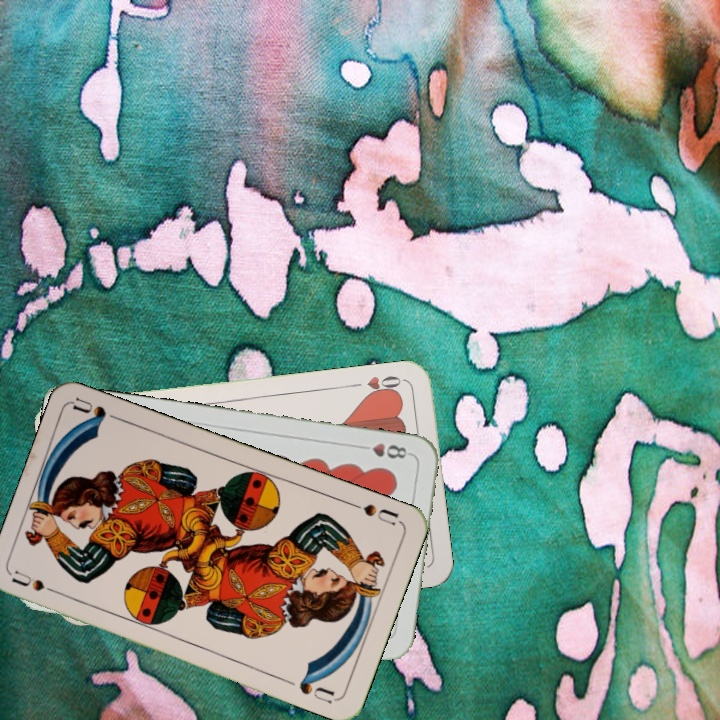H8: (355, 439, 414, 462)
HO: (346, 371, 406, 399)
SU: (9, 566, 67, 599), (346, 498, 401, 529)
